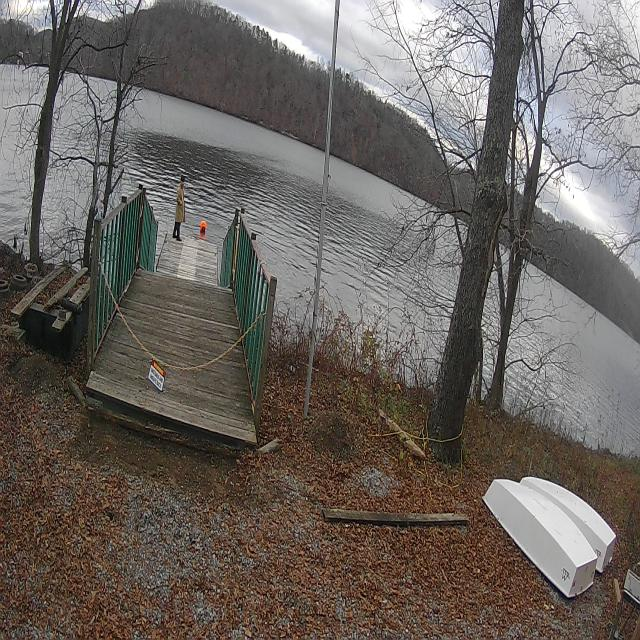Buoy: (197, 214, 210, 242)
